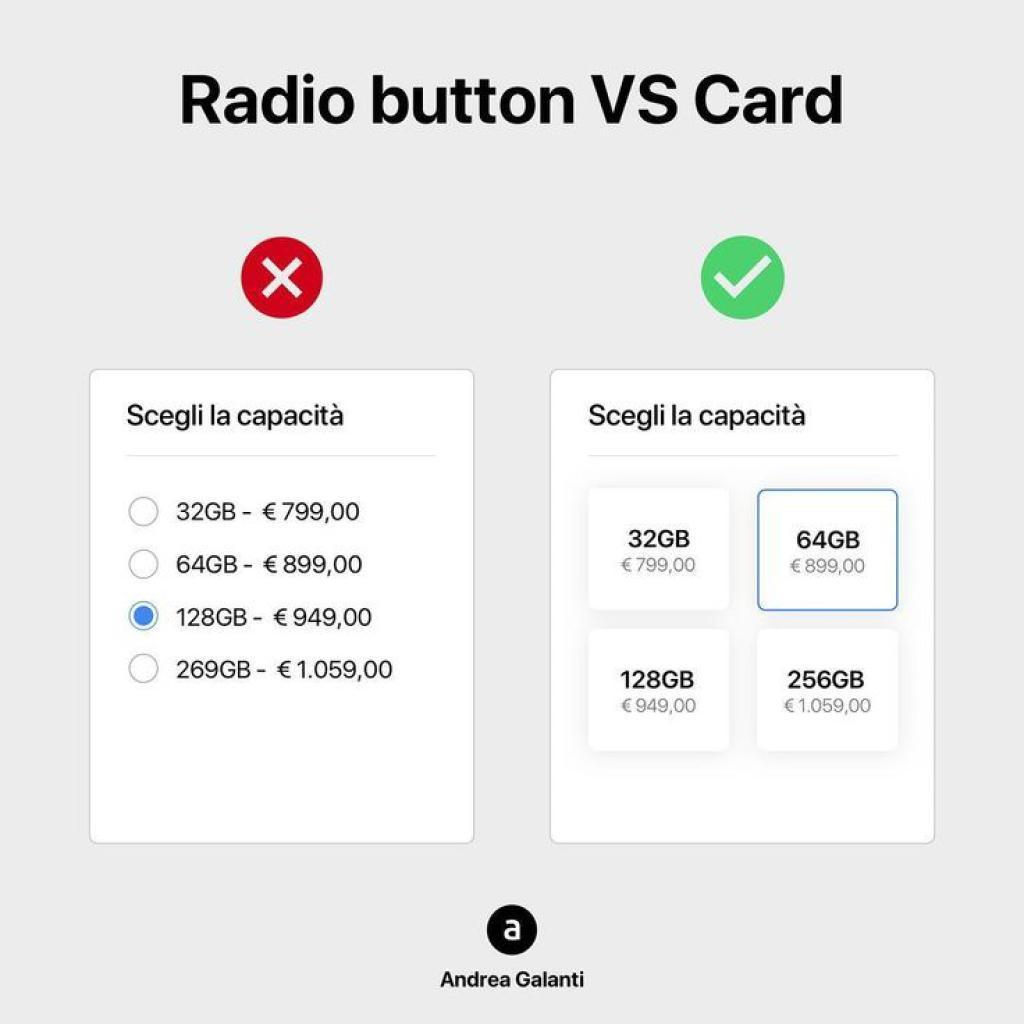checkbox: (702, 235, 786, 322), (241, 235, 325, 322)
label: (172, 547, 366, 582), (177, 602, 376, 636), (174, 657, 398, 686), (174, 498, 361, 529)
radio: (128, 599, 160, 634), (128, 496, 161, 529), (127, 550, 162, 581), (128, 653, 161, 684)
